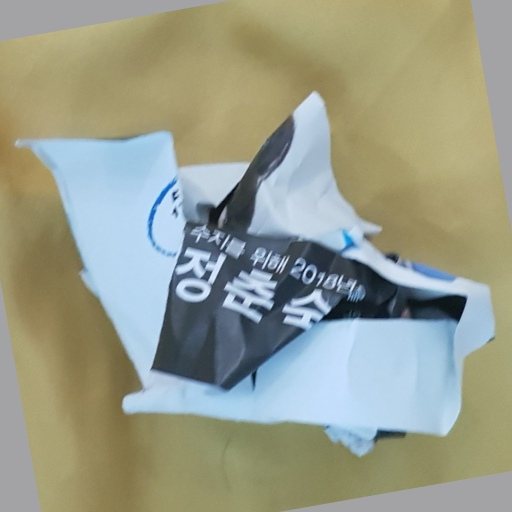Paper_3: (12, 92, 500, 459)
